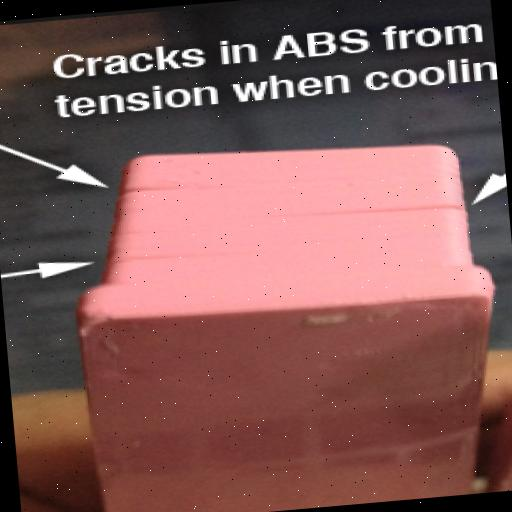cracks: (90, 166, 262, 214), (318, 196, 473, 242), (90, 246, 210, 284)
